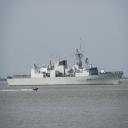Fragata: (8, 37, 126, 88)
